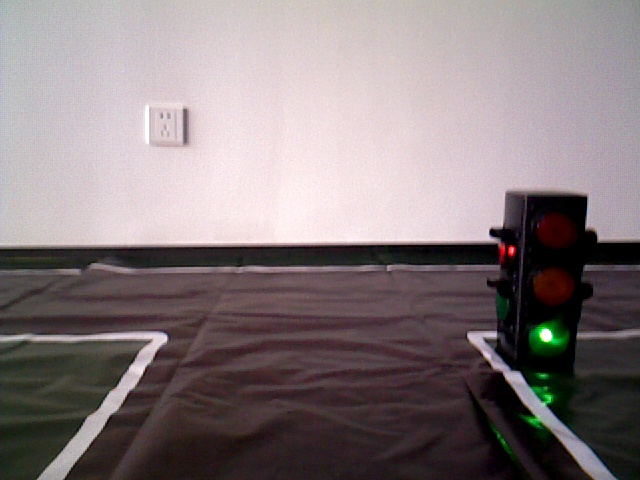green: (504, 195, 581, 356)
